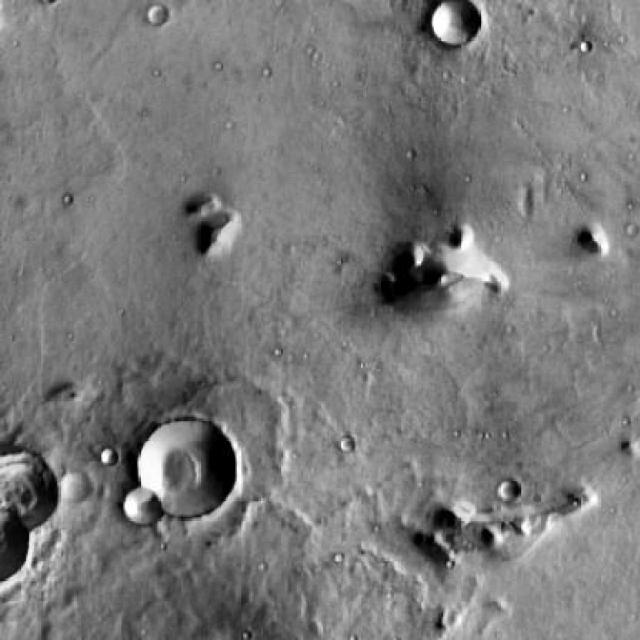crater: (137, 422, 238, 523), (434, 1, 484, 41), (126, 487, 166, 527), (57, 468, 91, 502), (497, 478, 520, 500), (151, 6, 169, 25), (98, 448, 116, 467), (338, 434, 354, 452)
